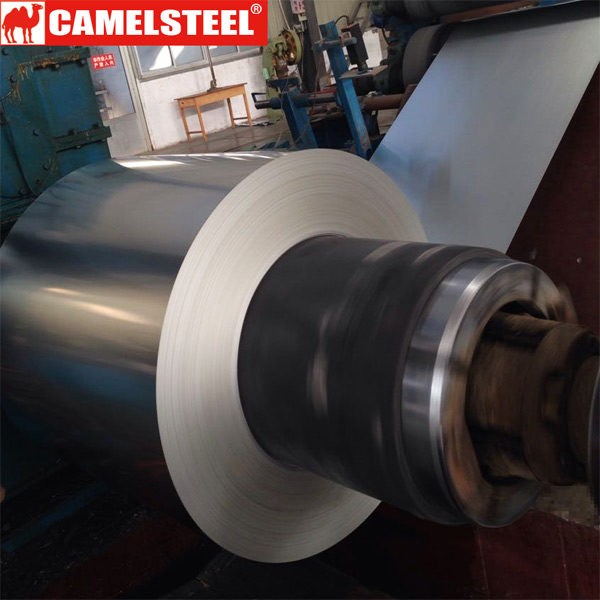steel-coil: (20, 137, 579, 510), (20, 137, 580, 509)
